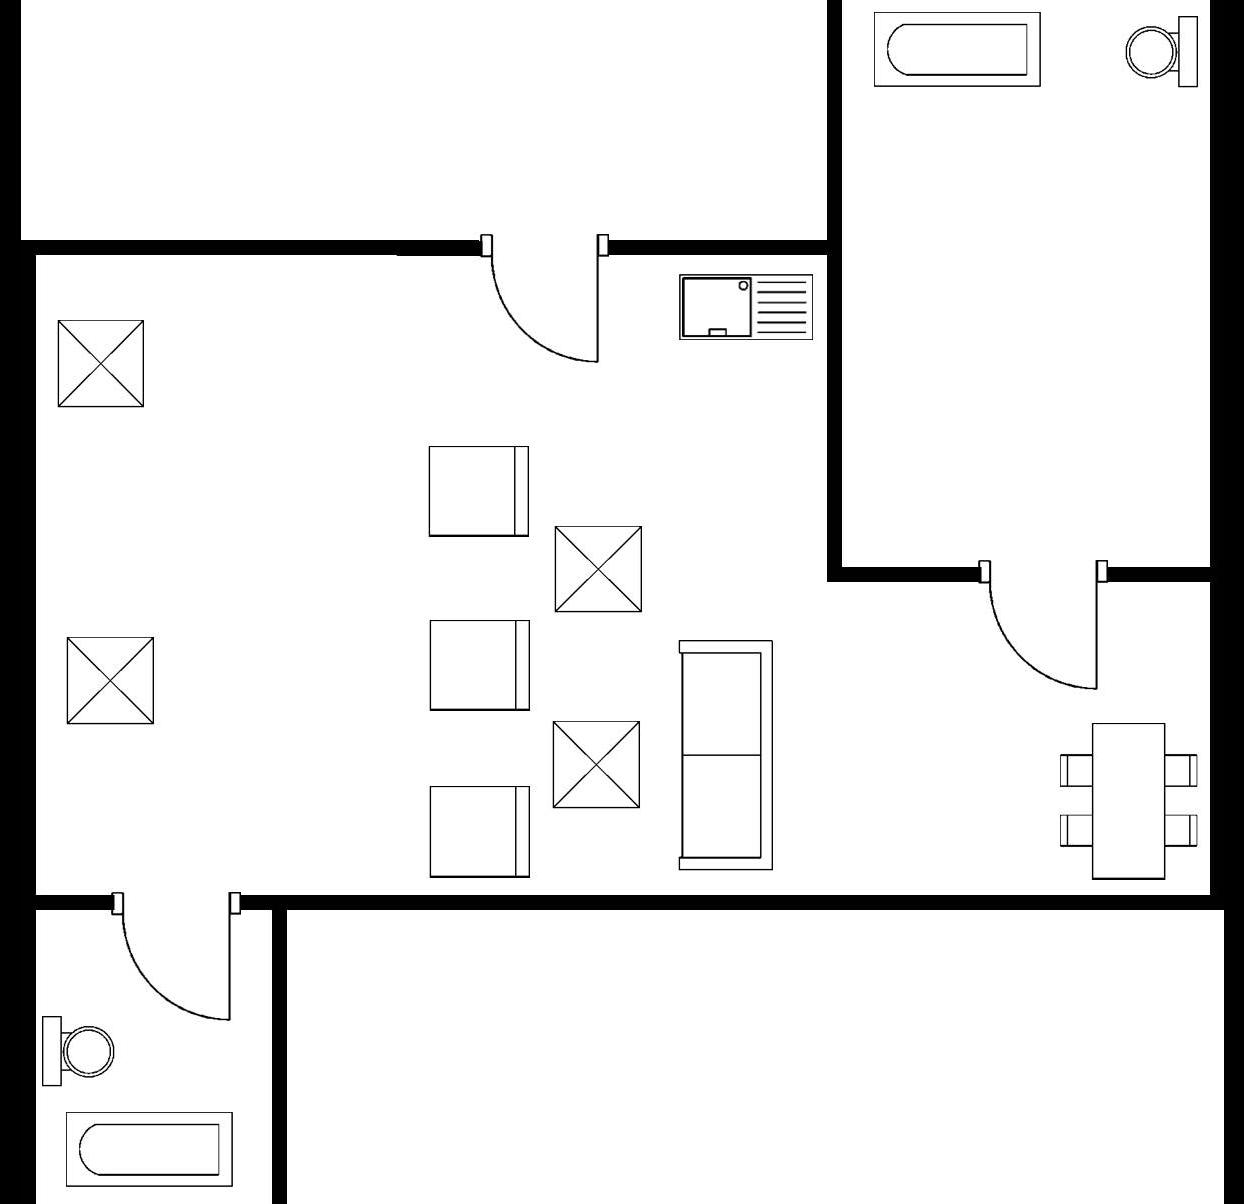dining_table: (1053, 714, 1205, 887)
sink: (668, 264, 824, 349)
sofa: (671, 629, 780, 880)
toilet: (1122, 9, 1205, 96), (42, 1011, 118, 1095)
tub: (58, 1103, 242, 1196), (865, 6, 1053, 94)
